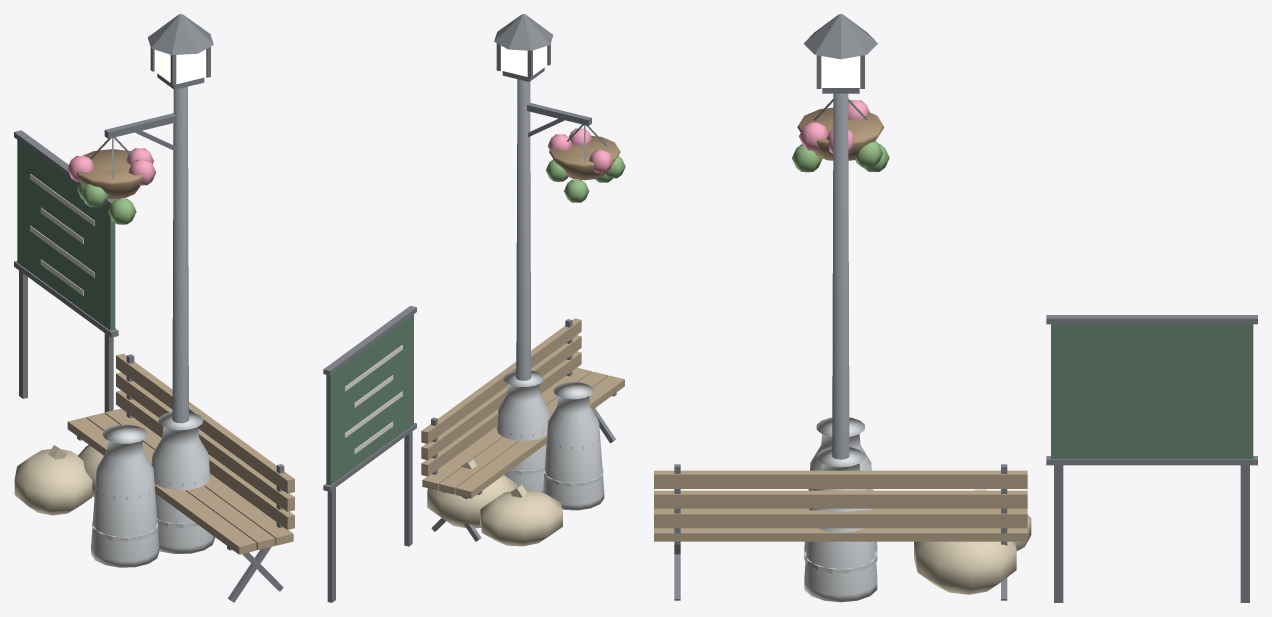
Rendered from halt_extras.glb.
3 renders of one model, left to right at view 1: azimuth 30°, elevation 25°; view 2: azimuth 150°, elevation 25°; view 3: azimuth 270°, elevation 25°, orthographic. The views are drawn at different scales.
Visible parts, largest first — view 1: hx_bench_mesh, hx_churns_mesh, hx_lamp_mesh; view 2: hx_bench_mesh, hx_churns_mesh, hx_lamp_mesh; view 3: hx_bench_mesh, hx_lamp_mesh, hx_churns_mesh.
Part boxes in pixels (<box>): hx_bench_mesh: <box>14,130,294,602</box>; hx_churns_mesh: <box>14,412,214,567</box>; hx_lamp_mesh: <box>67,14,213,423</box>; hx_bench_mesh: <box>323,305,624,602</box>; hx_churns_mesh: <box>427,370,604,546</box>; hx_lamp_mesh: <box>494,14,625,380</box>; hx_bench_mesh: <box>654,315,1257,602</box>; hx_lamp_mesh: <box>792,14,889,459</box>; hx_churns_mesh: <box>804,417,1031,602</box>.
Bounding box in the file's own units: 1.19 × 4.07 × 3.88.
